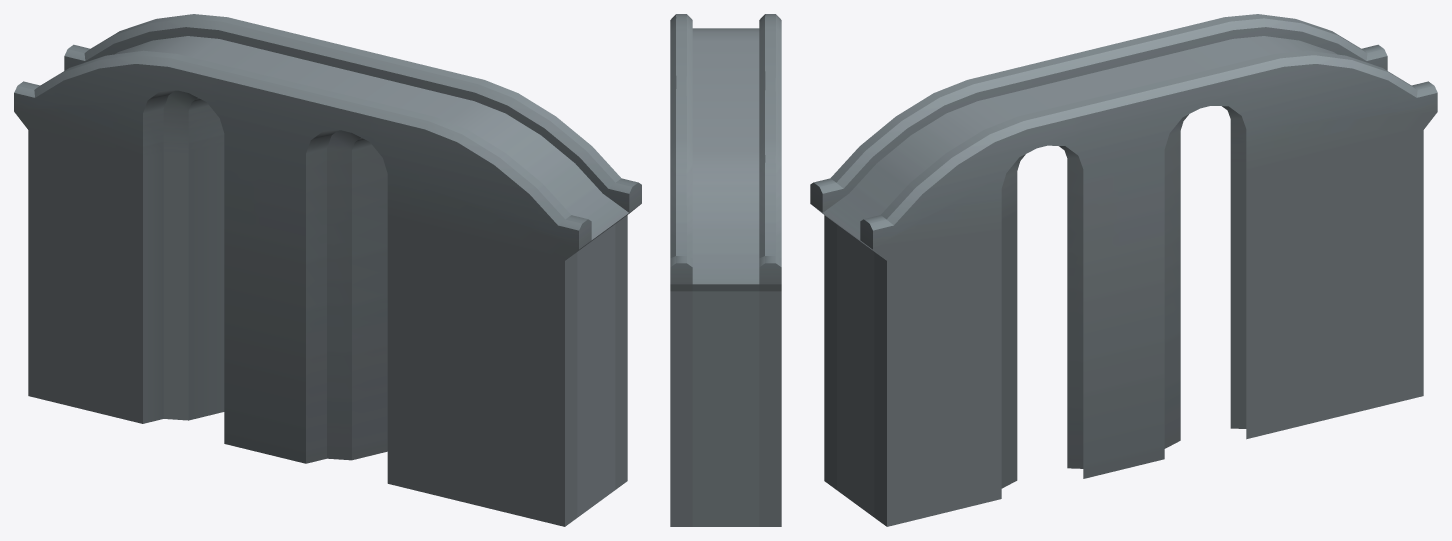
Rendered from kaykit-medieval-hexagon-pack-building-bridge-a.glb.
3 views of the same model, side by side, from view 1: azimuth 30°, elevation 25°; view 2: azimuth 150°, elevation 25°; view 3: azimuth 270°, elevation 25° (orthographic). The views are drawn at different scales.
Visible parts, largest first — view 1: building_bridge_A; view 2: building_bridge_A; view 3: building_bridge_A.
Boxes of the visible parts, x1,y1,x2,y2 form: building_bridge_A: (14,14,641,526); building_bridge_A: (670,14,781,526); building_bridge_A: (810,14,1437,526).
Bounding box in the file's own units: 1.33 × 1.25 × 1.92.
Materials: 1 (1 with a texture image).
